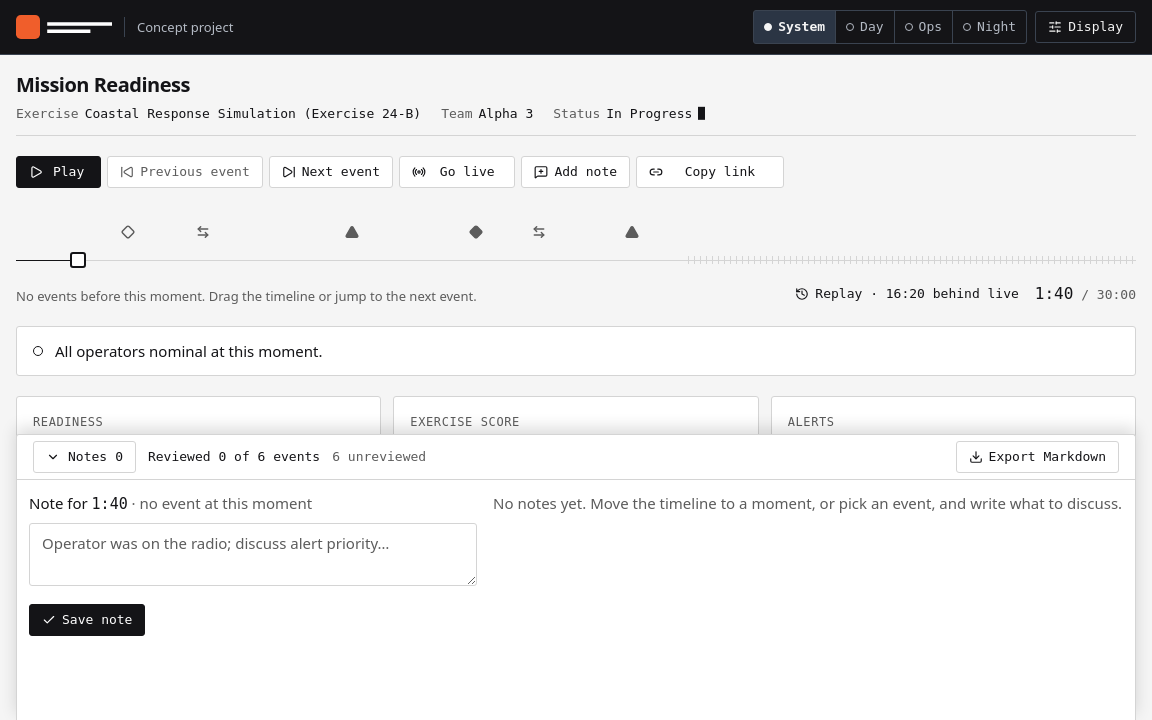
Scenario: composer › won't save an empty note, says why, and puts focus in the box
Click the button "Save note": (87, 620) [29, 604, 146, 636]
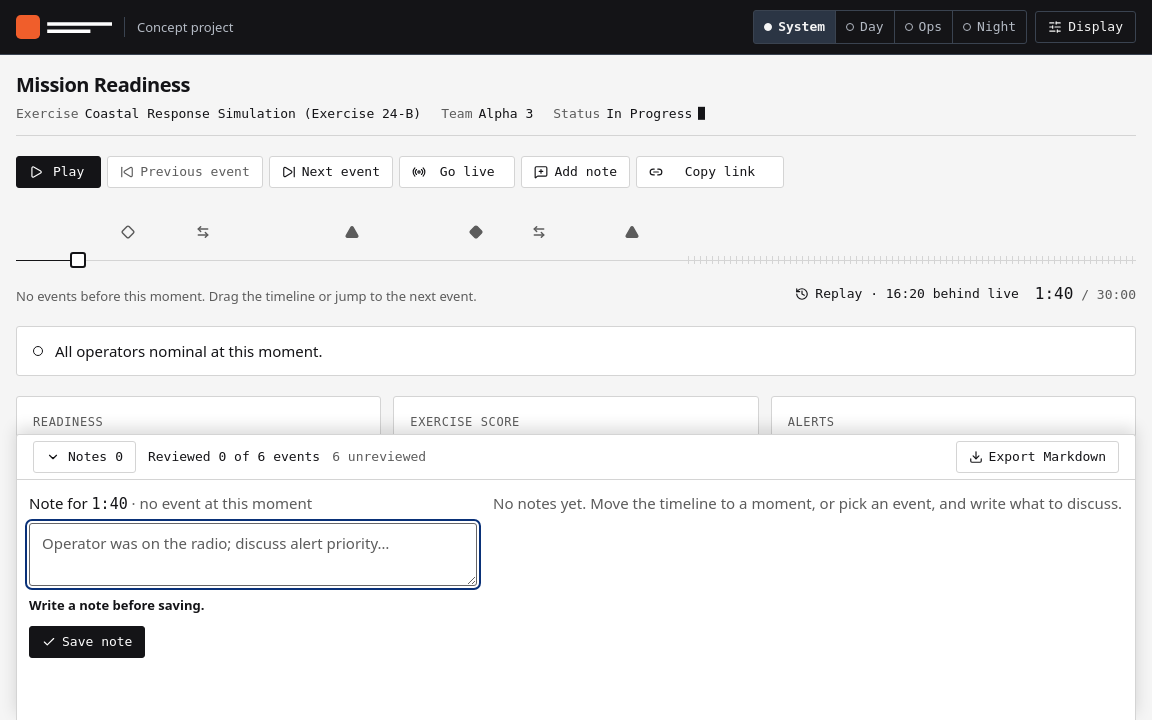
Now the text "Write a note before saving." is shown, box [29, 596, 204, 614]
In the text box named "Note": (253, 555) [29, 524, 477, 586], type "x"
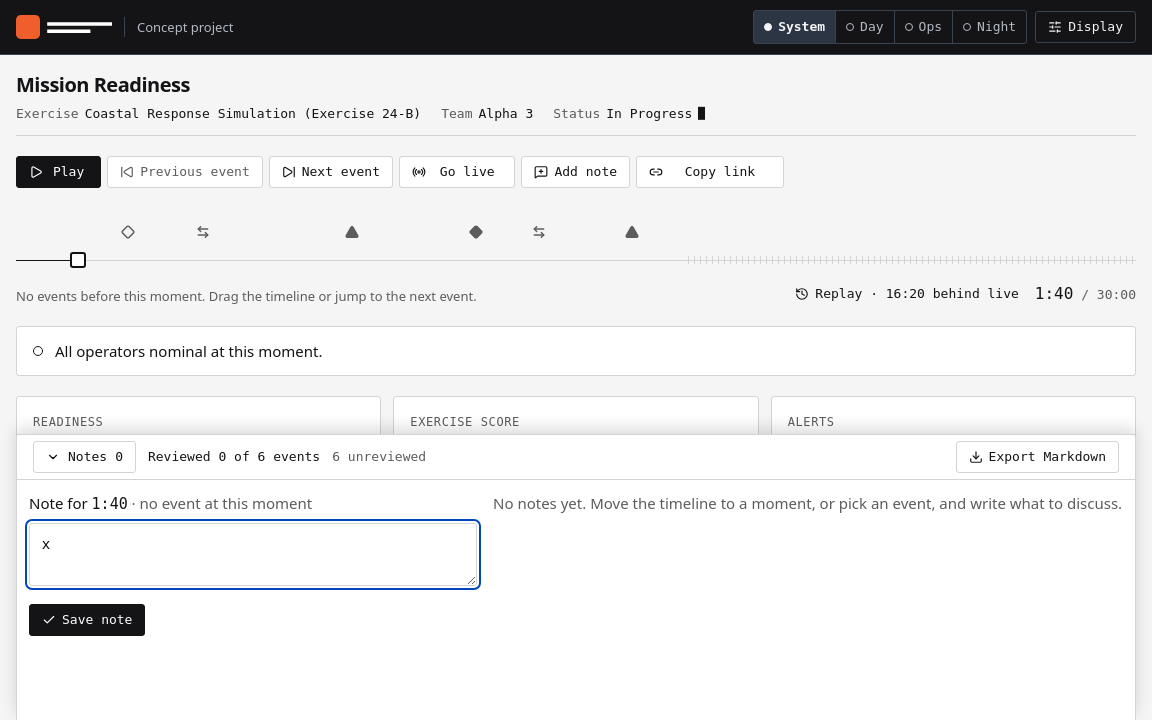
Now the text "Write a note before saving." is gone
